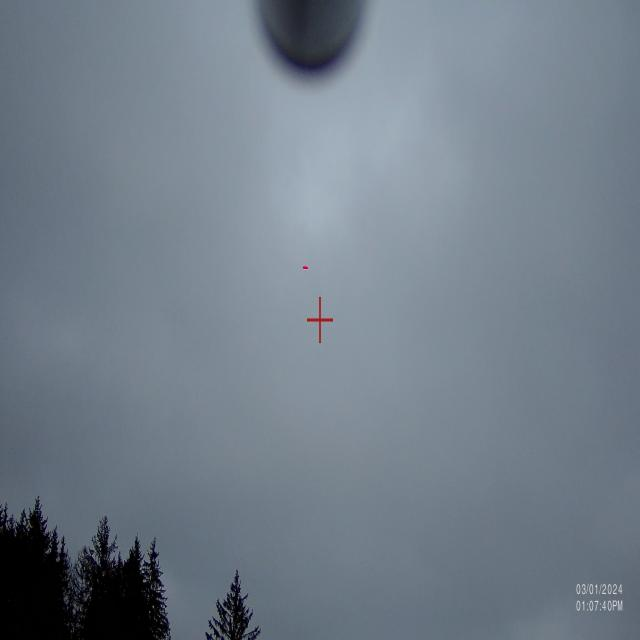entire: (298, 253, 311, 274)
